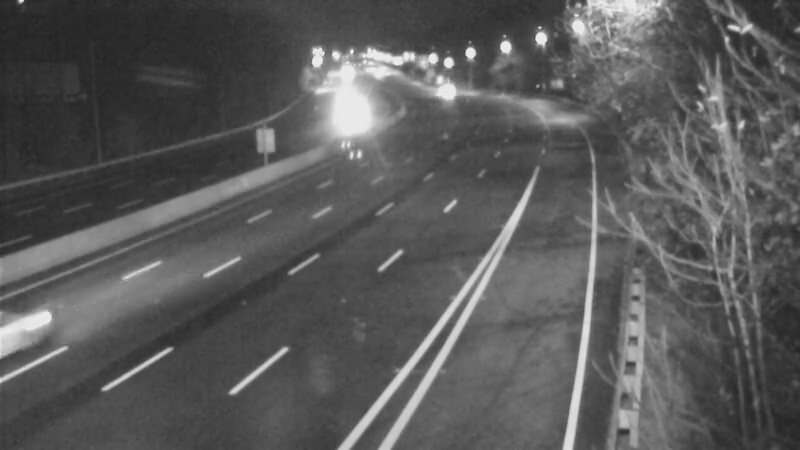vehicle: (416, 66, 466, 116), (317, 97, 367, 147)
